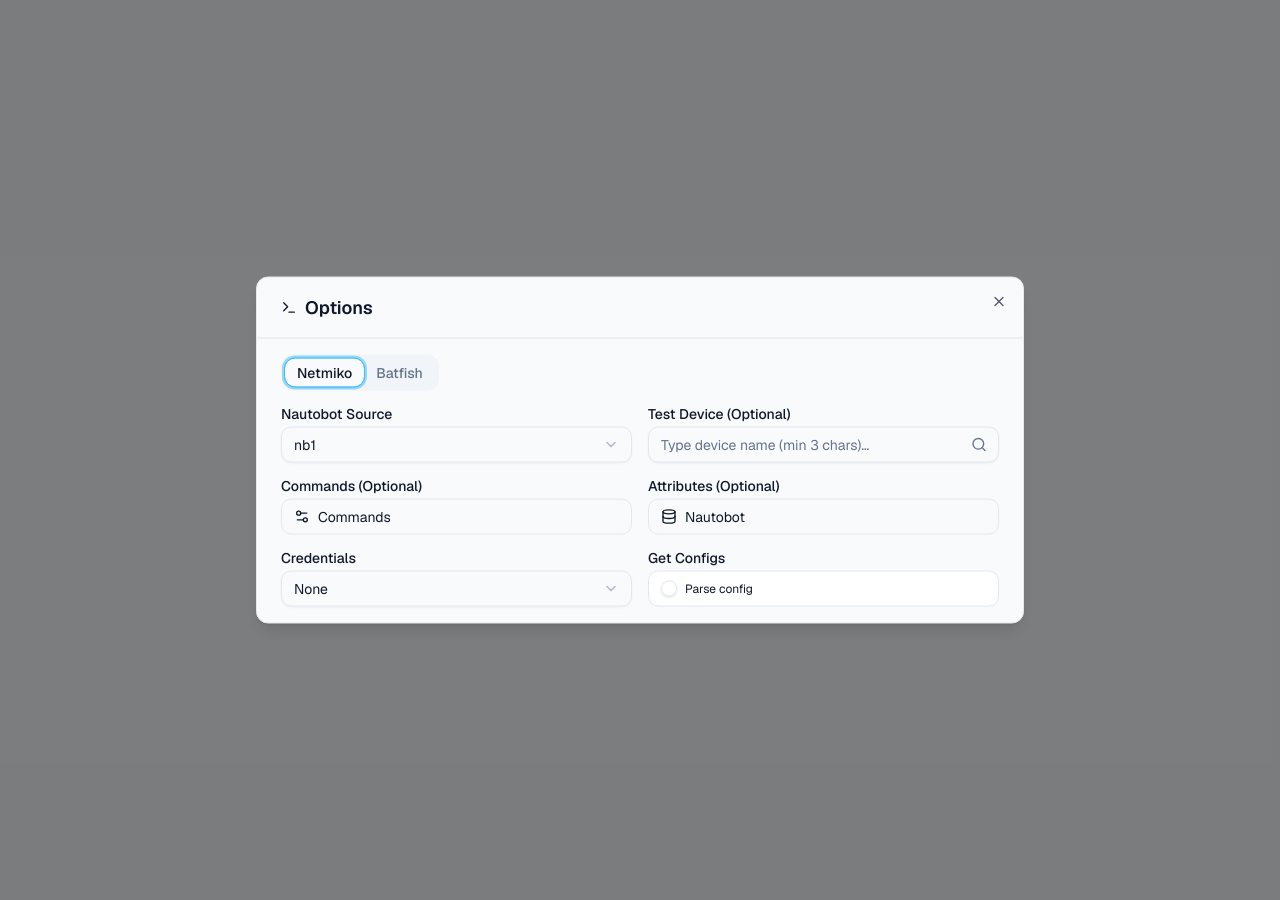
Scenario: OptionsDialog › test device search › shows the matching devices with their address
Type "edge" into the field labelled "Test Device (Optional)".
click(824, 444); type("edge")  # box [648,426,999,462]
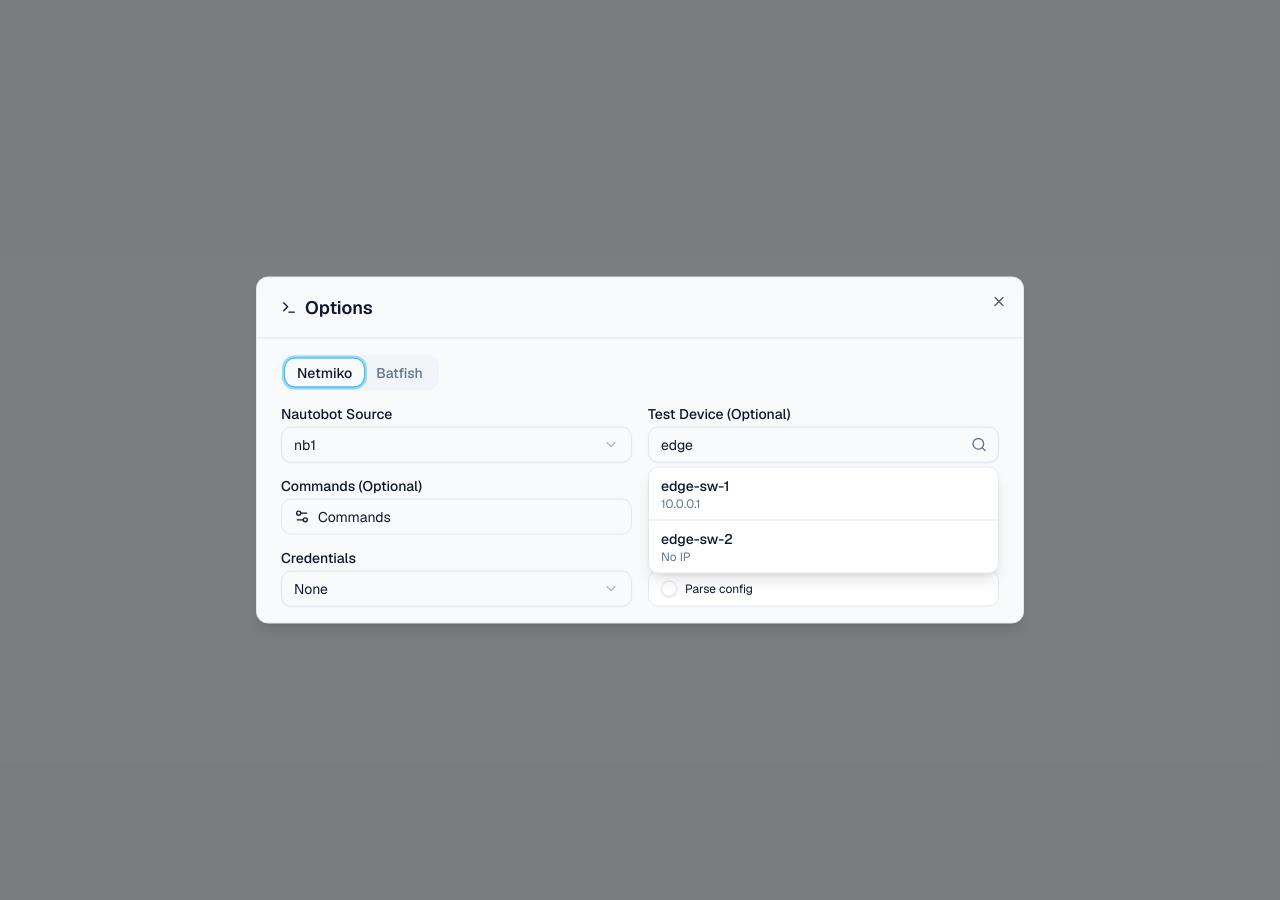
Now the text "edge-sw-1" is shown, box [661,476,730,494]
Now the text "10.0.0.1" is shown, box [661,496,700,512]
Now the text "No IP" is shown, box [661,548,690,564]
